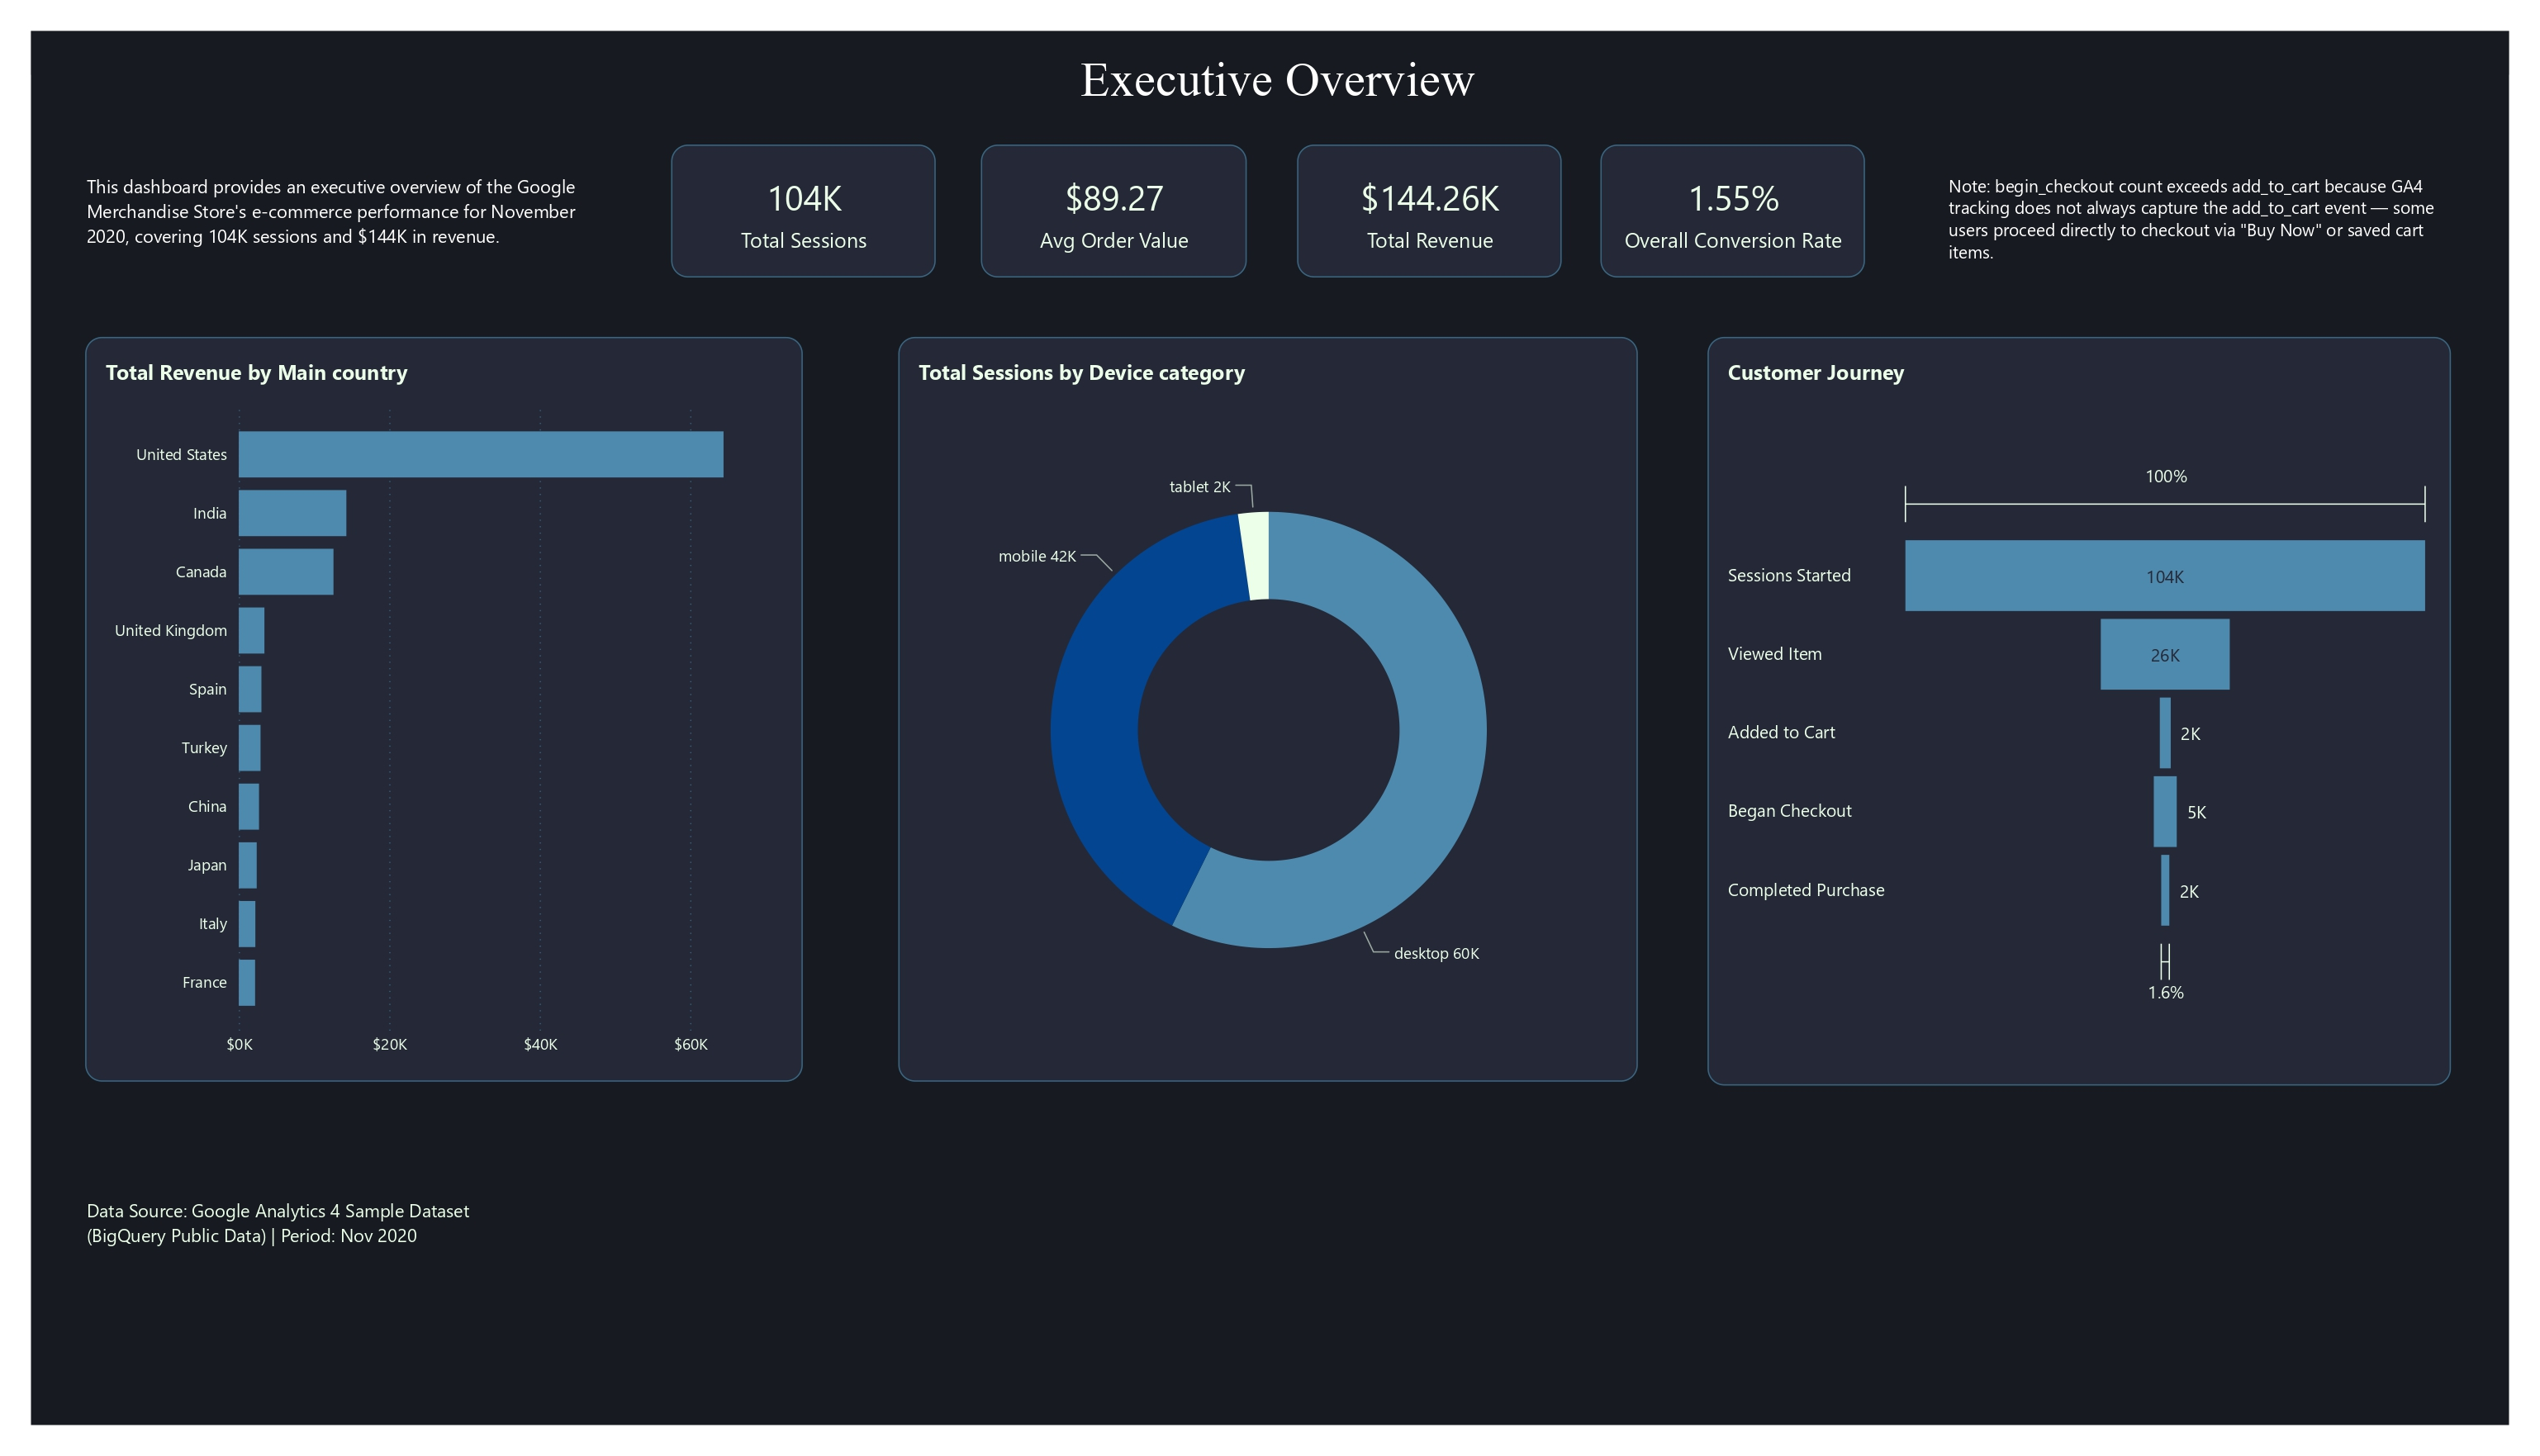

The page's visual inventory and layout, read from the dashboard file:
{"tool":"powerbi","page":{"name":"Executive Overview","canvas":[1920,1080],"ordinal":0},"visuals":[{"type":"textbox","box":[775.1,15.7,381.9,71.9],"z":0},{"type":"card","fields":{"Values":["_Measures.Total Sessions"]},"box":[496.1,88.1,205,102.5],"z":1000},{"type":"card","fields":{"Values":["_Measures.Total Revenue"]},"box":[981.3,88.2,204.5,103.2],"z":2000},{"type":"card","fields":{"Values":["_Measures.Overall Conversion Rate"]},"box":[1215.6,88.1,205,102.5],"z":3000},{"type":"card","fields":{"Values":["_Measures.Avg Order Value"]},"box":[735.5,88.2,206.4,103.2],"z":4000},{"type":"funnel","title":"Customer Journey","fields":{"Y":["_Measures.Sessions Started","_Measures.Viewed Item","_Measures.Added to Cart","_Measures.Began Checkout","_Measures.Completed Purchase"]},"box":[1298.5,237.1,576.7,580.3],"z":5000},{"type":"donutChart","fields":{"Category":["marts fact_sessions.device_category"],"Y":["_Measures.Total Sessions"]},"box":[672.3,237.1,573.2,576.7],"z":6000},{"type":"clusteredBarChart","fields":{"Category":["marts dim_customers.main_country"],"Y":["_Measures.Total Revenue"]},"box":[42.5,237.1,555.5,576.7],"z":7000},{"type":"textbox","box":[1486,111.1,389,94.2],"z":8000},{"type":"textbox","box":[43.5,111.1,410.8,99.1],"z":8001},{"type":"textbox","box":[43.5,903.7,326.2,82.2],"z":8002}]}

Visuals, with their boxes in screenshot pixels (x1, y1, x2, y2):
textbox: [1015,0,1532,26]
card - _Measures.Total Sessions: [638,26,915,165]
card - _Measures.Total Revenue: [1294,26,1571,166]
card - _Measures.Overall Conversion Rate: [1611,26,1888,165]
card - _Measures.Avg Order Value: [961,26,1241,166]
"Customer Journey" funnel: [1723,228,2504,1013]
donutChart - marts fact_sessions.device_category x _Measures.Total Sessions: [876,228,1651,1008]
clusteredBarChart - marts dim_customers.main_country x _Measures.Total Revenue: [25,228,776,1008]
textbox: [1977,58,2503,185]
textbox: [26,58,582,192]
textbox: [26,1130,467,1240]
